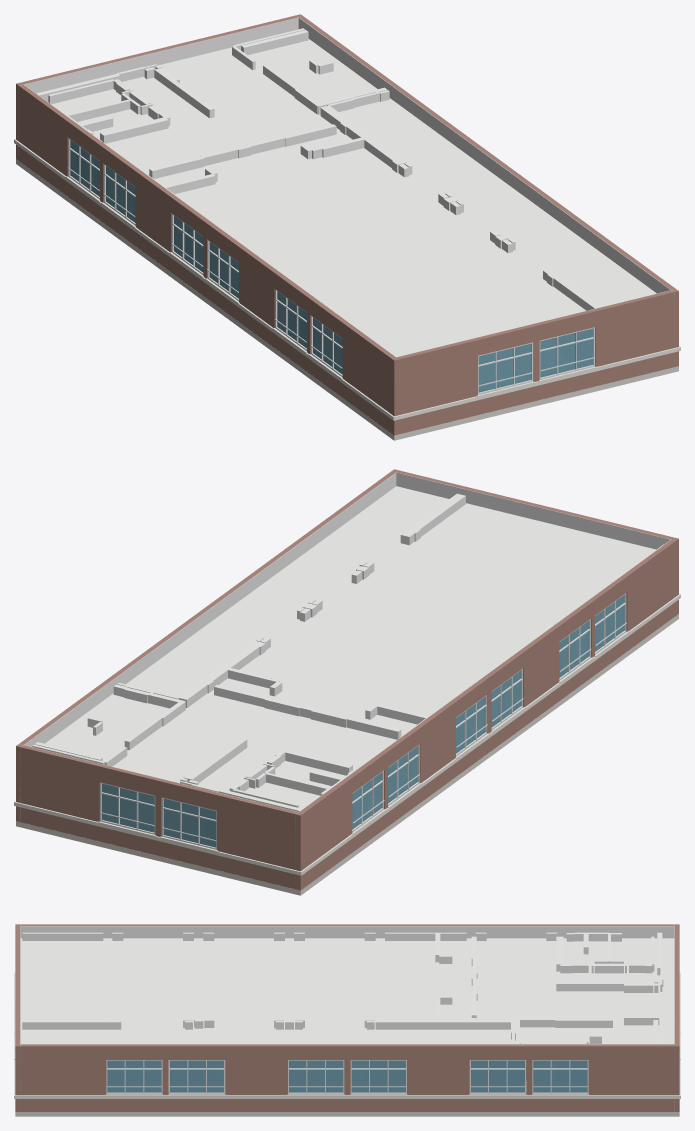
The model's file is info_1F.glb.
3 views of the same model, one above another, from view 1: azimuth 30°, elevation 25°; view 2: azimuth 150°, elevation 25°; view 3: azimuth 270°, elevation 25° (orthographic). The views are drawn at different scales.
Visible parts, largest first — view 1: info_1F__ceil, info_1F__brick, info_1F__wallIn, info_1F__glass, info_1F__frameW, info_1F__corrFloor, info_1F__white, info_1F__rail; view 2: info_1F__ceil, info_1F__brick, info_1F__wallIn, info_1F__glass, info_1F__frameW, info_1F__corrFloor, info_1F__white, info_1F__rail; view 3: info_1F__ceil, info_1F__brick, info_1F__wallIn, info_1F__glass, info_1F__white, info_1F__corrFloor, info_1F__frameW, info_1F__rail.
Part boxes in pixels (<box>): info_1F__ceil: <box>51,39,656,356</box>; info_1F__brick: <box>16,14,678,435</box>; info_1F__wallIn: <box>18,17,674,357</box>; info_1F__glass: <box>70,140,592,392</box>; info_1F__frameW: <box>68,138,594,394</box>; info_1F__corrFloor: <box>16,159,678,440</box>; info_1F__white: <box>14,139,680,420</box>; info_1F__rail: <box>68,167,594,386</box>; info_1F__ceil: <box>45,486,655,808</box>; info_1F__brick: <box>16,469,678,890</box>; info_1F__wallIn: <box>19,472,671,866</box>; info_1F__glass: <box>102,595,624,847</box>; info_1F__frameW: <box>100,593,626,849</box>; info_1F__corrFloor: <box>16,614,678,895</box>; info_1F__white: <box>14,594,680,875</box>; info_1F__rail: <box>100,622,626,841</box>; info_1F__ceil: <box>20,938,674,1043</box>; info_1F__brick: <box>15,924,679,1111</box>; info_1F__wallIn: <box>20,924,674,1111</box>; info_1F__glass: <box>107,1060,587,1092</box>; info_1F__white: <box>14,972,680,1098</box>; info_1F__corrFloor: <box>15,1060,679,1116</box>; info_1F__frameW: <box>106,1060,588,1094</box>; info_1F__rail: <box>15,1001,679,1087</box>.
Bounding box in the file's own units: 14.44 × 3.85 × 33.04.
